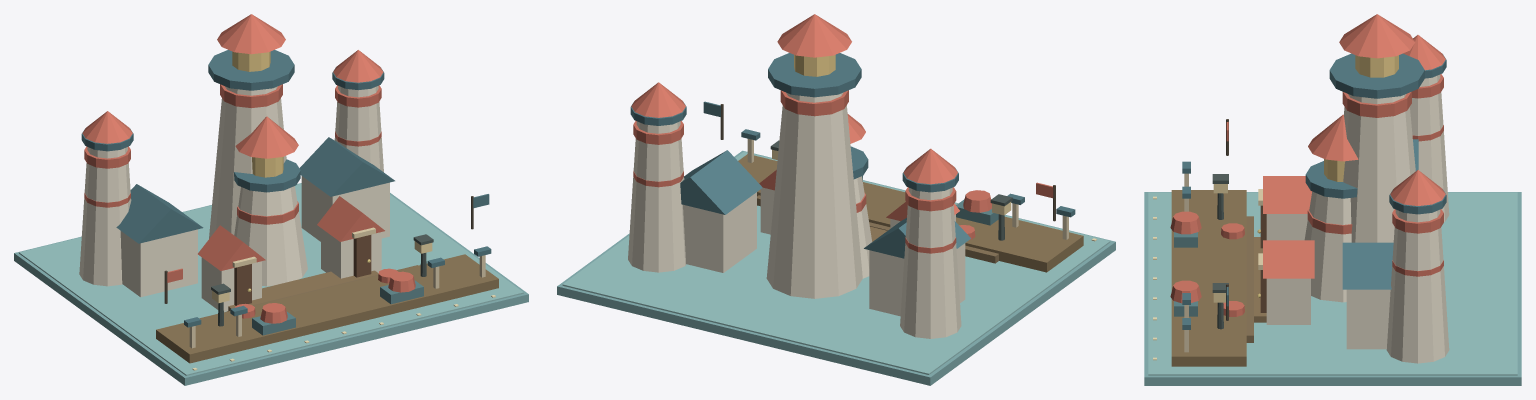
File: tower-lv4.obj
The picture shows the model from 3 angles, left to right: view 1: azimuth 30°, elevation 25°; view 2: azimuth 150°, elevation 25°; view 3: azimuth 270°, elevation 25°; orthographic projection. The views are drawn at different scales.
Visible parts, largest first — view 1: tower_3, tower_1, tower_4, tower_5, tower_16, tower_0, tower_9, tower_8, tower_18, tower_12, tower_14, tower_6 (+1 smaller); view 2: tower_3, tower_1, tower_4, tower_5, tower_0, tower_16, tower_12, tower_13, tower_18, tower_17; view 3: tower_1, tower_3, tower_4, tower_16, tower_5, tower_0, tower_13, tower_12, tower_14, tower_18, tower_8, tower_9 (+1 smaller).
Part boxes in pixels (x1,y1,x2,y2): tower_3: (79,86,389,311); tower_1: (19,183,523,375); tower_4: (82,14,415,323); tower_5: (81,50,491,327); tower_16: (156,254,498,363); tower_0: (14,183,528,385); tower_9: (234,235,371,305); tower_8: (227,270,378,311); tower_18: (252,280,423,335); tower_12: (232,51,270,71); tower_14: (211,234,433,326); tower_6: (252,157,283,177); tower_3: (628,92,965,338); tower_1: (562,151,1110,374); tower_4: (631,14,1053,253); tower_5: (630,53,1075,258); tower_0: (557,150,1115,385); tower_16: (738,154,1083,272); tower_12: (794,55,835,76); tower_13: (757,195,998,263); tower_18: (862,176,998,225); tower_17: (747,138,1068,239); tower_1: (1148,192,1517,375); tower_3: (1266,74,1449,363); tower_4: (1170,14,1445,316); tower_16: (1171,190,1246,366); tower_5: (1182,53,1446,329); tower_0: (1144,192,1521,385); tower_13: (1246,216,1253,342); tower_12: (1355,55,1398,77); tower_14: (1212,174,1228,329); tower_18: (1174,232,1197,316); tower_8: (1254,237,1266,322); tower_9: (1260,205,1266,312).
Bounding box in the file's own units: 6.45 × 4.53 × 5.55.
